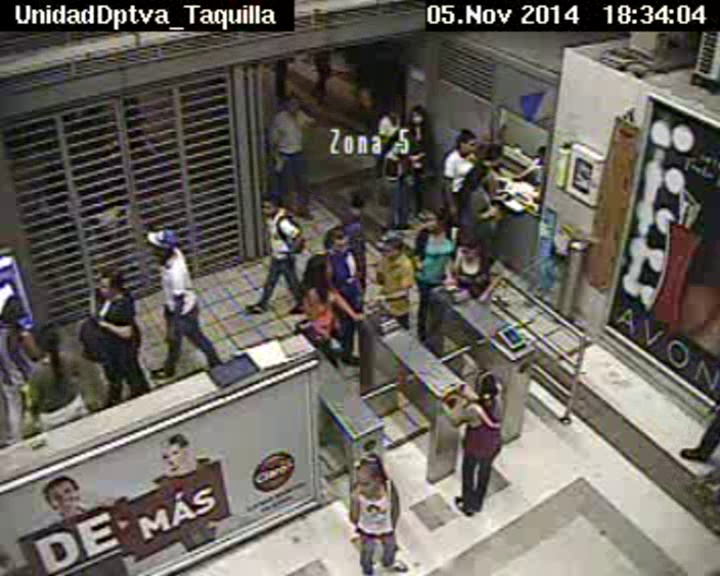person: (352, 451, 385, 491), (145, 225, 178, 261), (96, 268, 126, 302), (306, 254, 335, 287), (32, 325, 61, 355), (474, 369, 503, 398), (424, 206, 450, 234), (454, 129, 480, 157), (326, 227, 350, 253), (460, 234, 484, 260), (1, 294, 24, 321), (258, 193, 280, 221), (470, 162, 494, 186), (281, 91, 303, 114), (381, 238, 403, 261), (485, 141, 505, 164), (408, 104, 428, 125), (385, 103, 402, 122)
